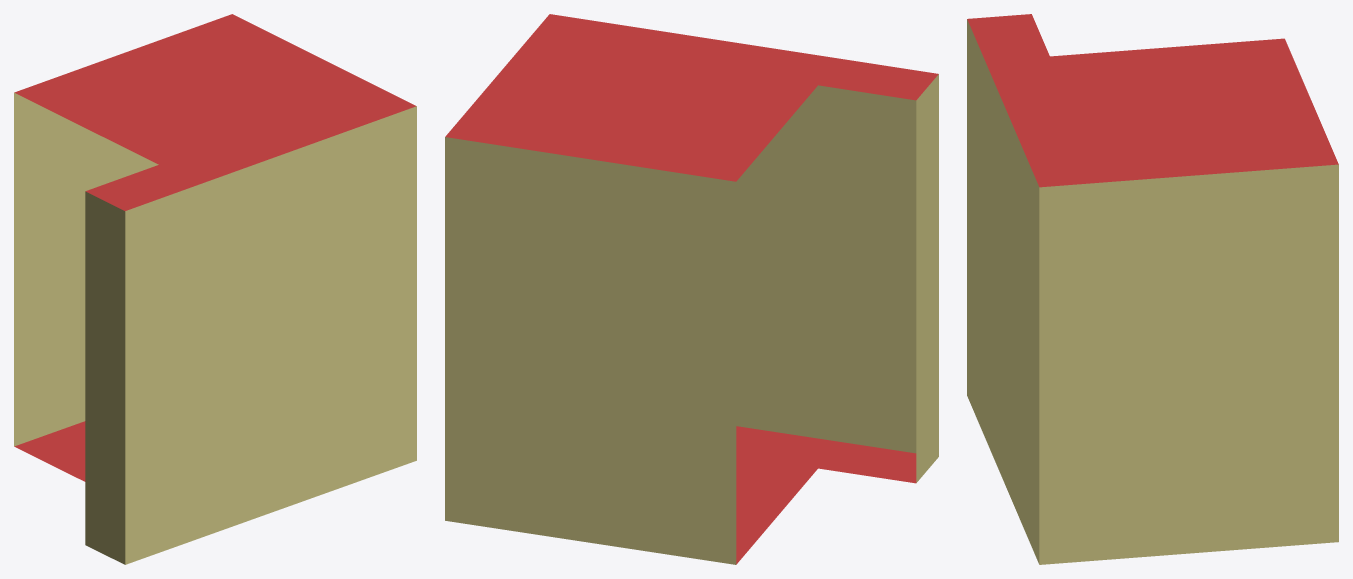
3 views of the same model, side by side, from view 1: azimuth 30°, elevation 25°; view 2: azimuth 150°, elevation 25°; view 3: azimuth 270°, elevation 25° (orthographic). The views are drawn at different scales.
Parts seen in each view (by area): view 1: group_4, group_3, group_5; view 2: group_4, group_3, group_5; view 3: group_4, group_3.
Part boxes in pixels (box(x1,y1,x2,y2)): group_4: box(14, 92, 416, 564); group_3: box(14, 14, 416, 210); group_5: box(14, 421, 85, 481); group_4: box(445, 74, 938, 564); group_3: box(445, 14, 938, 181); group_5: box(736, 426, 916, 564); group_4: box(967, 19, 1338, 564); group_3: box(967, 14, 1338, 187).
Size of the model in its own units: 8.33 by 7.51 by 8.42.
